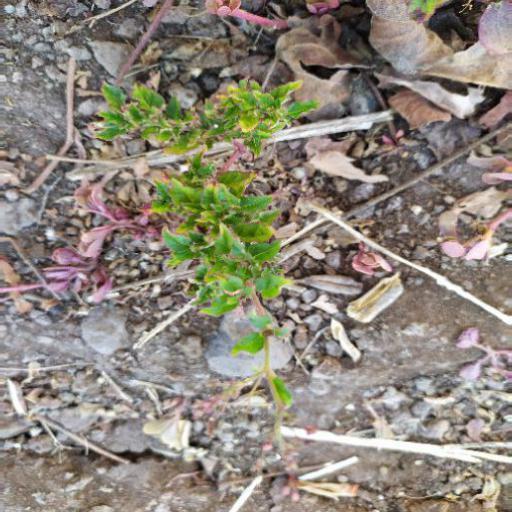weed: (89, 72, 335, 433)
